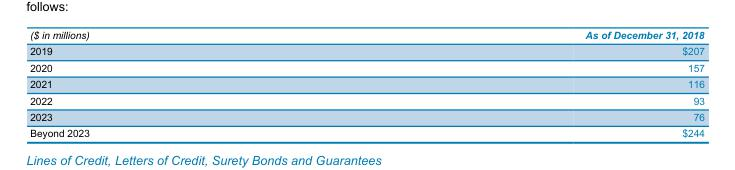table: (29, 28, 703, 138)
table column: (336, 28, 703, 138), (29, 28, 336, 138)
table column header: (29, 28, 703, 42)
table row: (29, 42, 703, 59), (29, 91, 703, 108), (29, 59, 703, 75), (29, 75, 703, 91), (29, 108, 703, 124), (29, 28, 703, 42), (29, 124, 703, 138)
